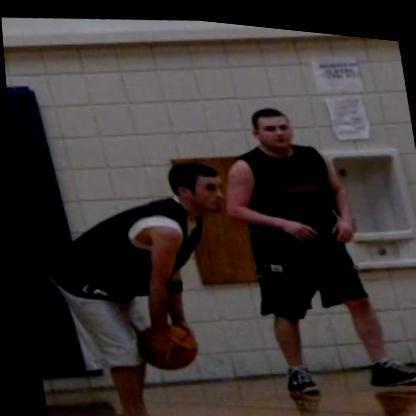basketball: (134, 317, 194, 370)
